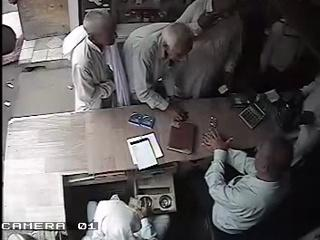Normal: (203, 124, 294, 240), (172, 0, 244, 100), (120, 22, 194, 112), (84, 192, 148, 240)
shoplifting: (63, 9, 124, 112)
